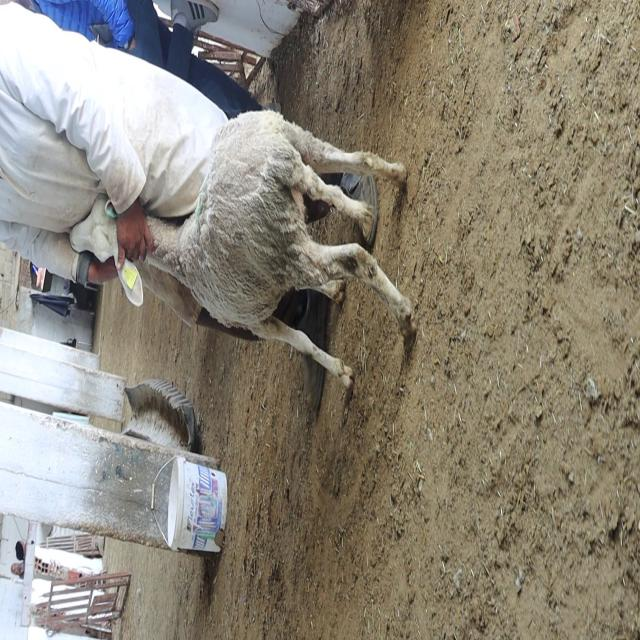Score_1: (150, 110, 415, 398)
